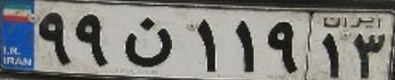character: (119, 11, 178, 73), (265, 16, 303, 80), (73, 8, 111, 70), (37, 10, 73, 69), (192, 16, 225, 76), (350, 31, 386, 80), (232, 12, 258, 78), (317, 30, 343, 80)
